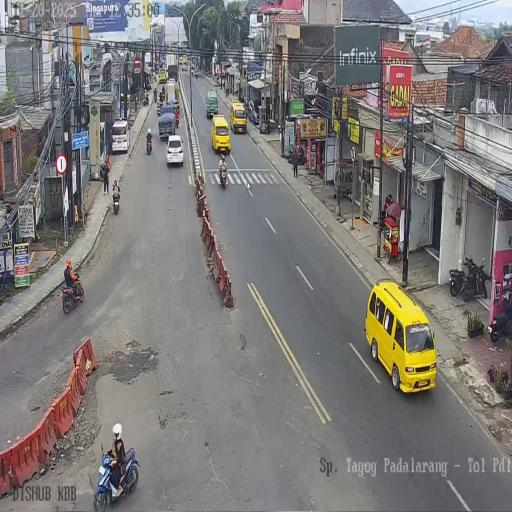car: (365, 279, 438, 393), (211, 114, 231, 154), (111, 119, 130, 155), (158, 107, 176, 142), (166, 134, 184, 168), (229, 100, 246, 134), (206, 88, 218, 118), (247, 99, 259, 124), (158, 68, 168, 84), (182, 58, 188, 71), (168, 77, 175, 87), (179, 59, 183, 69)
motorcycle: (93, 442, 139, 510), (460, 255, 488, 302), (488, 292, 512, 342), (62, 274, 84, 314), (449, 268, 465, 296), (285, 142, 303, 166), (112, 188, 120, 215), (219, 164, 227, 188), (146, 134, 152, 154), (156, 100, 162, 116), (142, 94, 148, 107), (159, 88, 164, 103), (175, 111, 179, 129), (224, 84, 229, 98), (153, 87, 157, 102), (195, 68, 198, 78)
truck: (166, 50, 178, 80)
